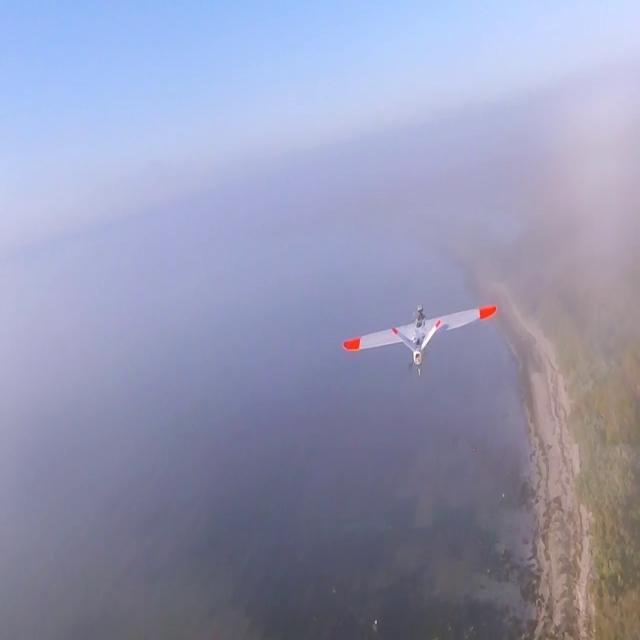iha: (340, 333, 500, 339)
